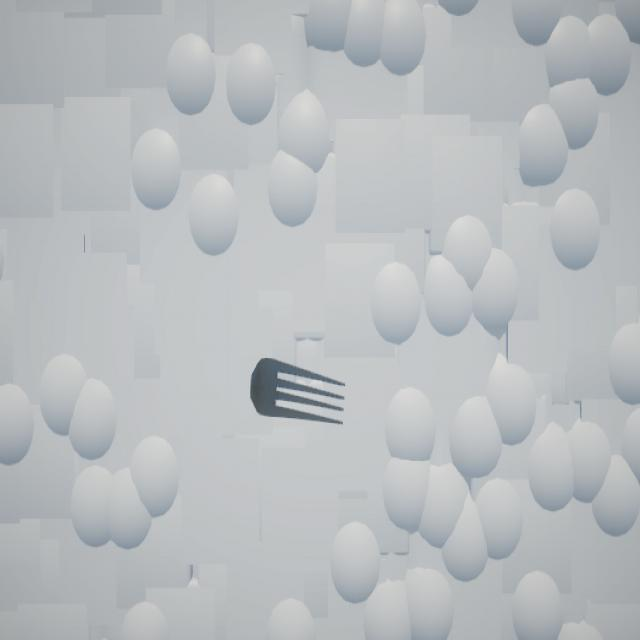top_folk: (251, 359, 346, 425)
